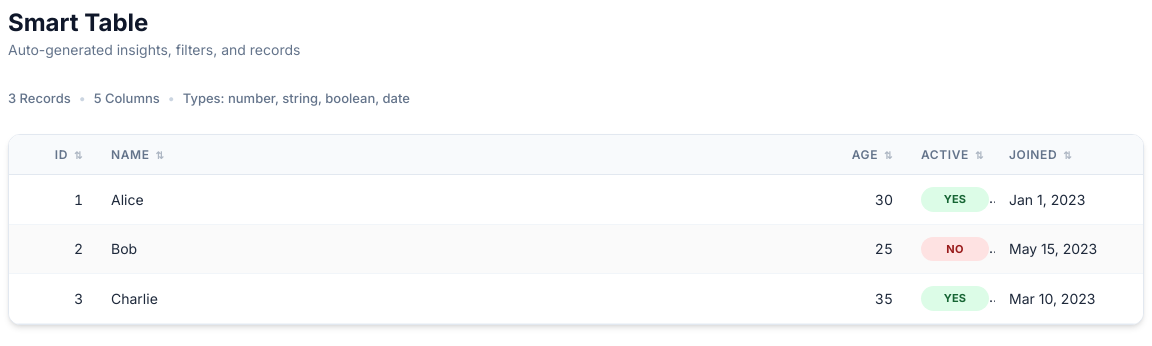
Test: Phase 3: Filters and Sorting Integration › sorts columns when clicking header
Expected: the cell "Alice" is shown, x1=97 y1=175 x2=759 y2=224
Note: Click to sort by Name (Ascending)
Click the column heading "Name⇅". click: (428, 155)
box: x1=97 y1=135 x2=759 y2=175
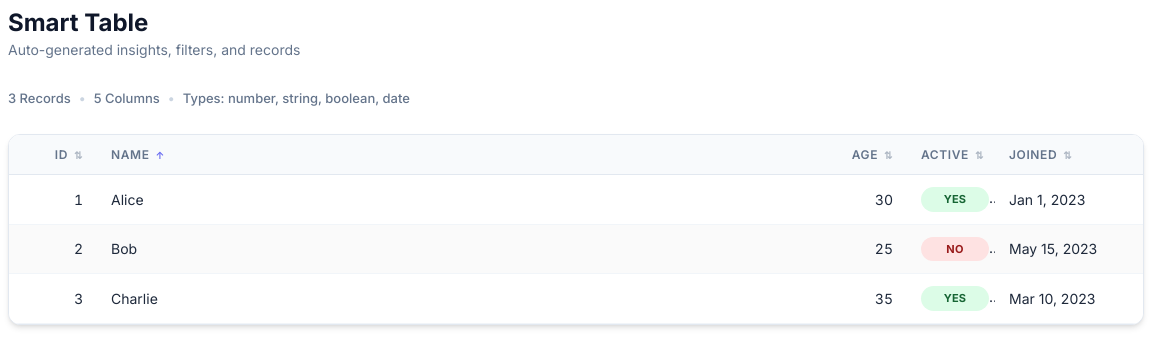
Expected: the cell "Alice" is shown, x1=97 y1=175 x2=759 y2=224
Note: Click again to sort Descending
Click the column heading "Name↑". click: (428, 155)
box: x1=97 y1=135 x2=759 y2=175
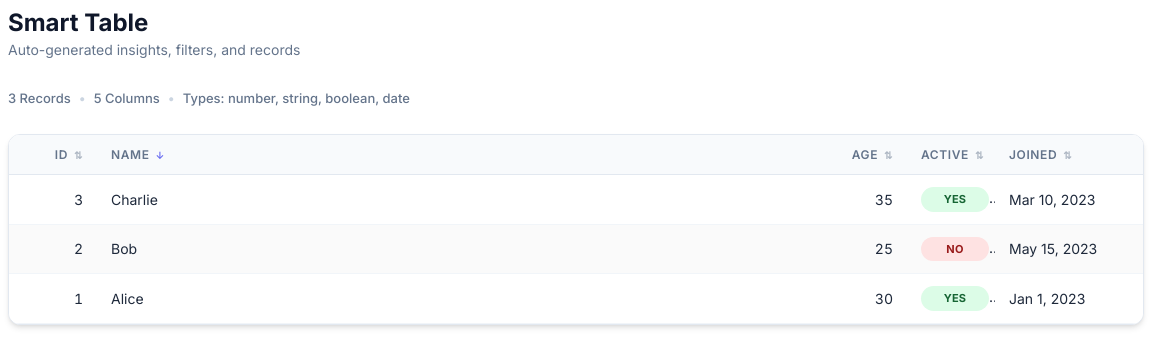
Expected: the cell "Charlie" is shown, x1=97 y1=175 x2=759 y2=224
